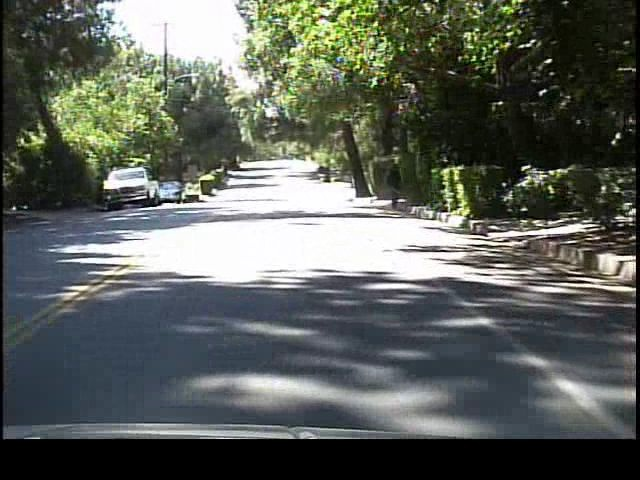person: (386, 156, 405, 214)
